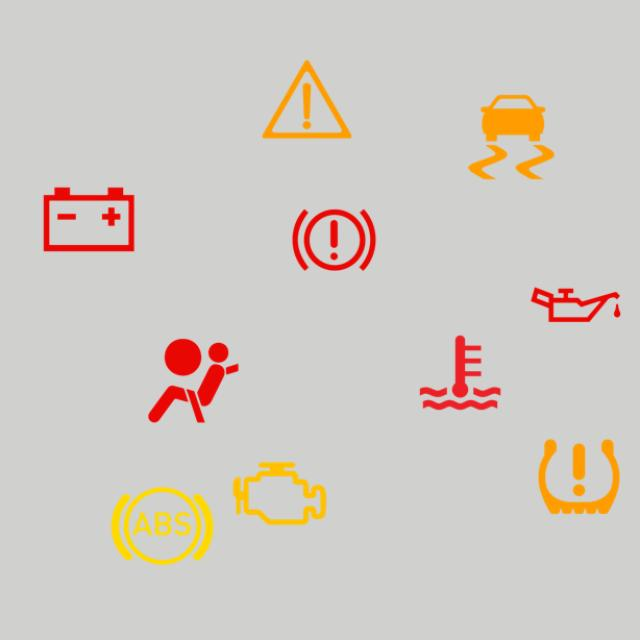Anti Lock Braking System: (106, 470, 218, 582)
Braking System Issue: (278, 185, 390, 296)
Charging System Issue: (33, 164, 145, 275)
Check Engine: (224, 438, 336, 549)
Electronic Stability Problem -ESP-: (456, 81, 567, 193)
Engine Overheating Warning Light: (404, 317, 516, 428)
Low Engine Oil Warning Light: (520, 249, 632, 361)
Low Tire Pressure Warning Light: (523, 421, 635, 533)
Master warning light: (251, 44, 363, 155)
SRS-Airbag: (138, 325, 249, 437)
